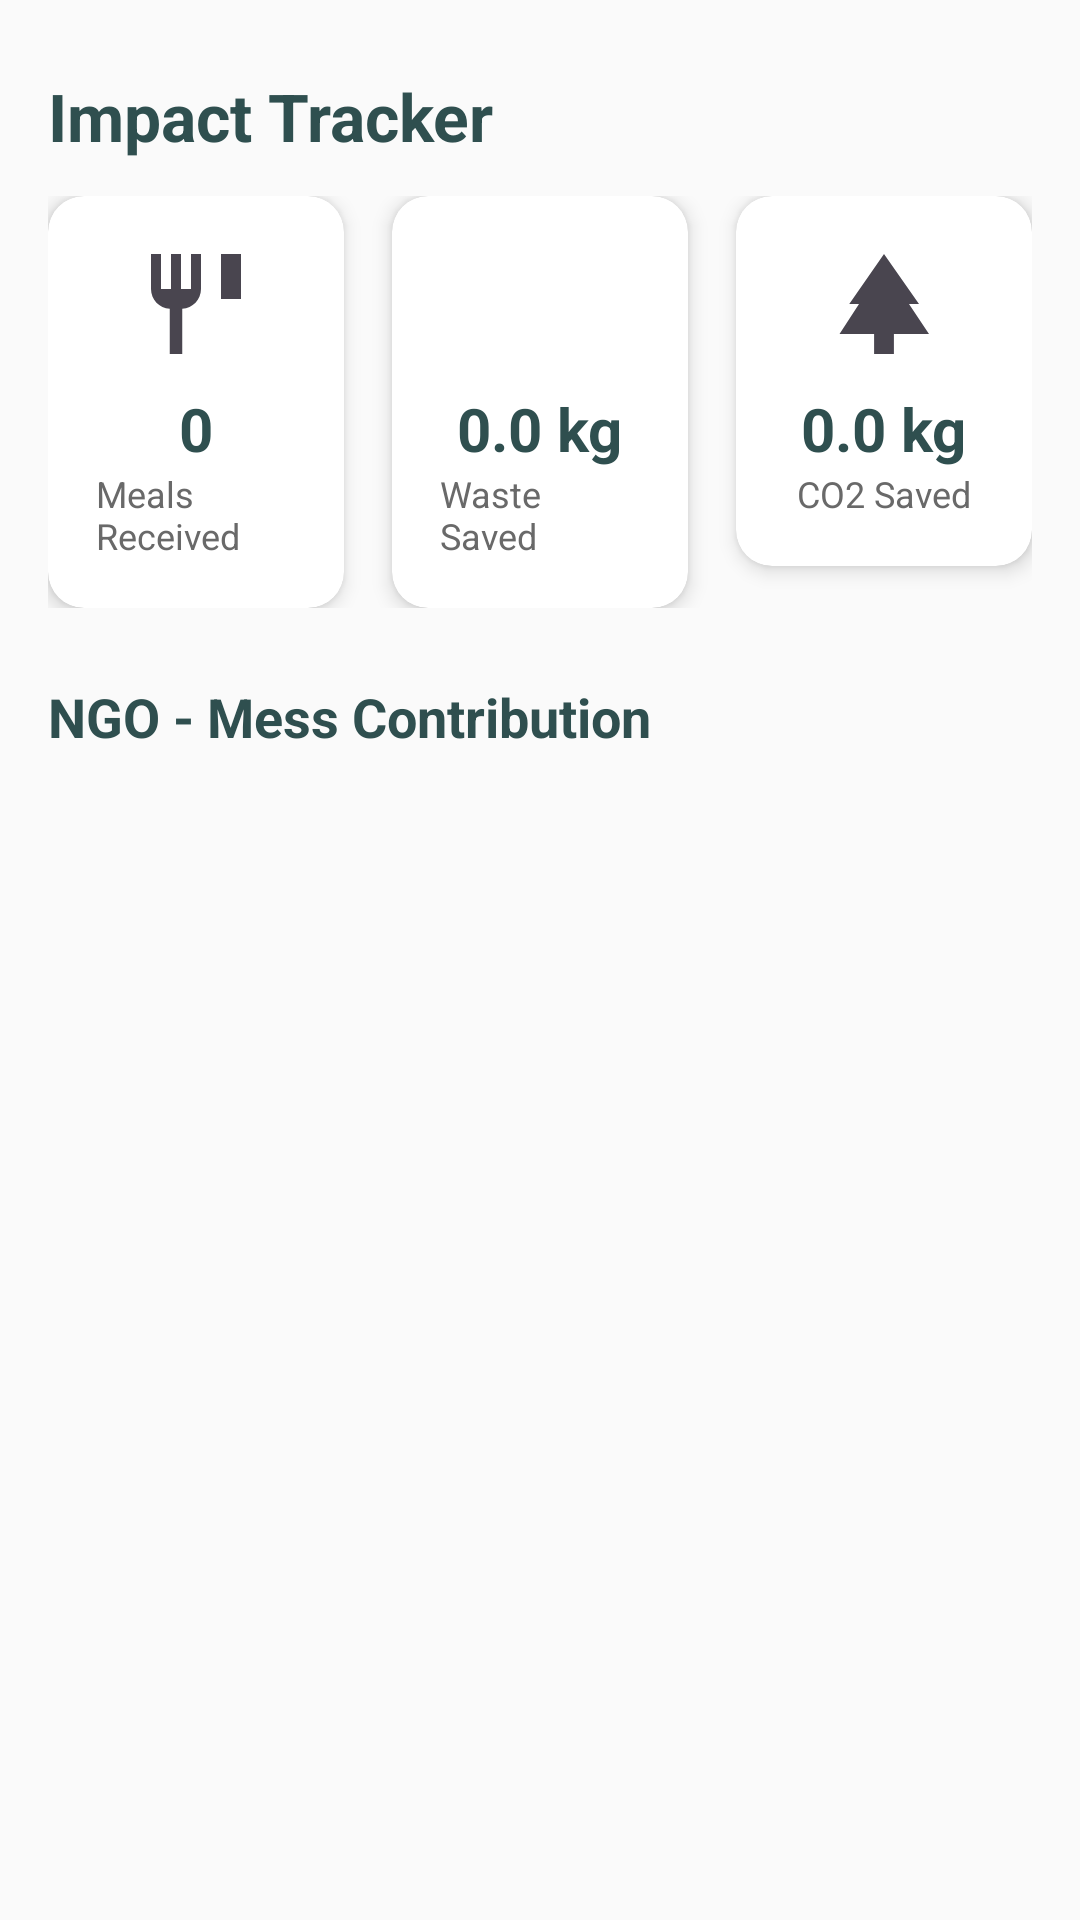

Icon click points for this 1080px×1920px phone screenshot, format (x,y):
co savings: (884,304)
meals redistributed: (196,304)
